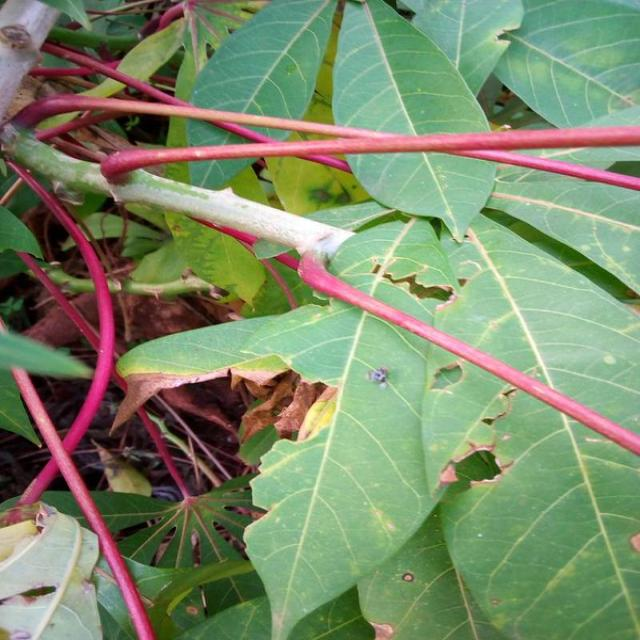cassava leaf: (104, 0, 638, 638), (330, 0, 497, 242)
